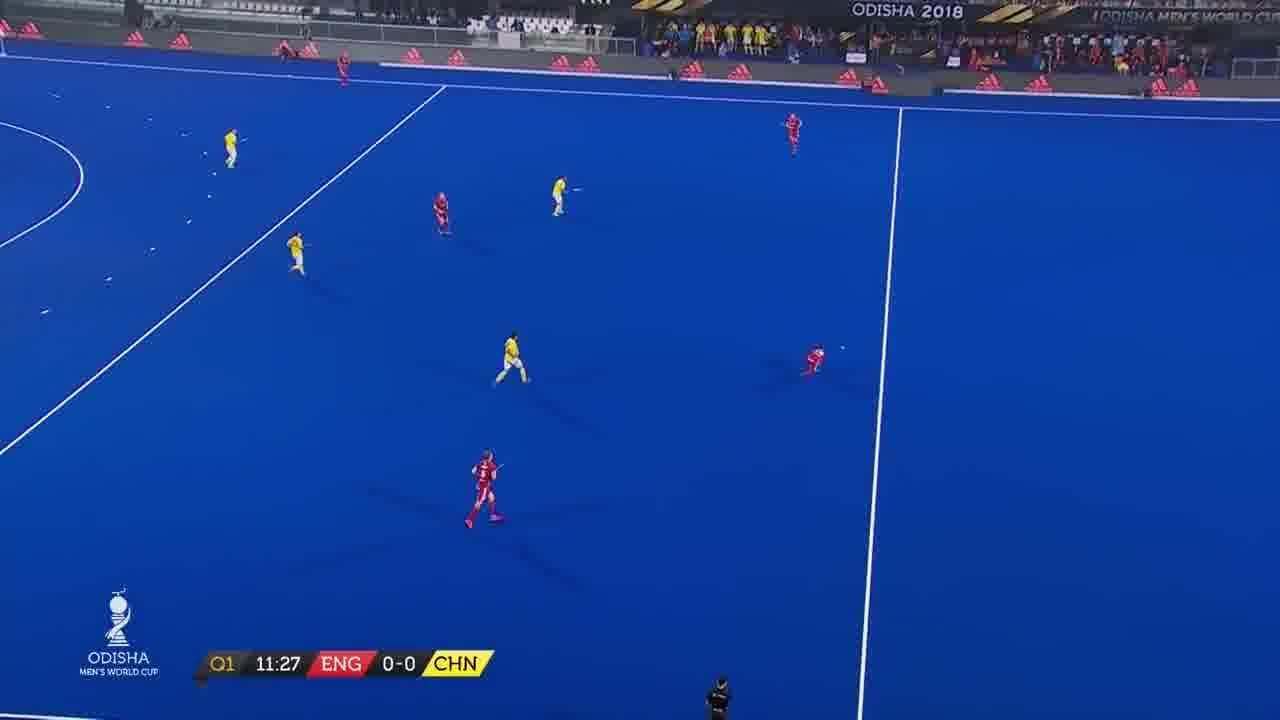ball: (839, 342, 847, 352)
